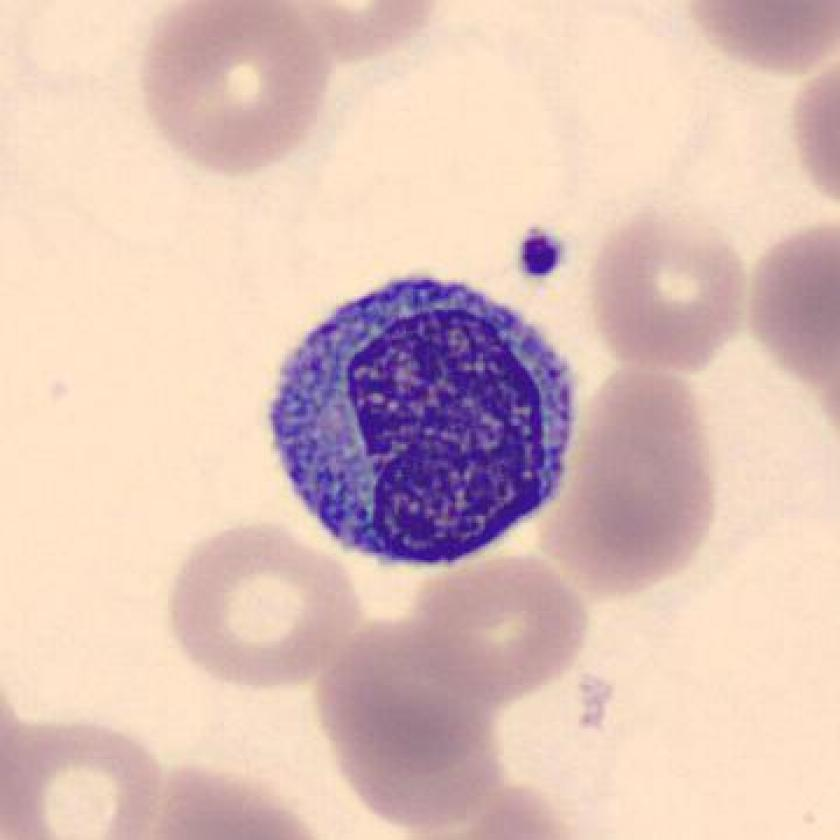monocyte: (248, 253, 603, 591)
